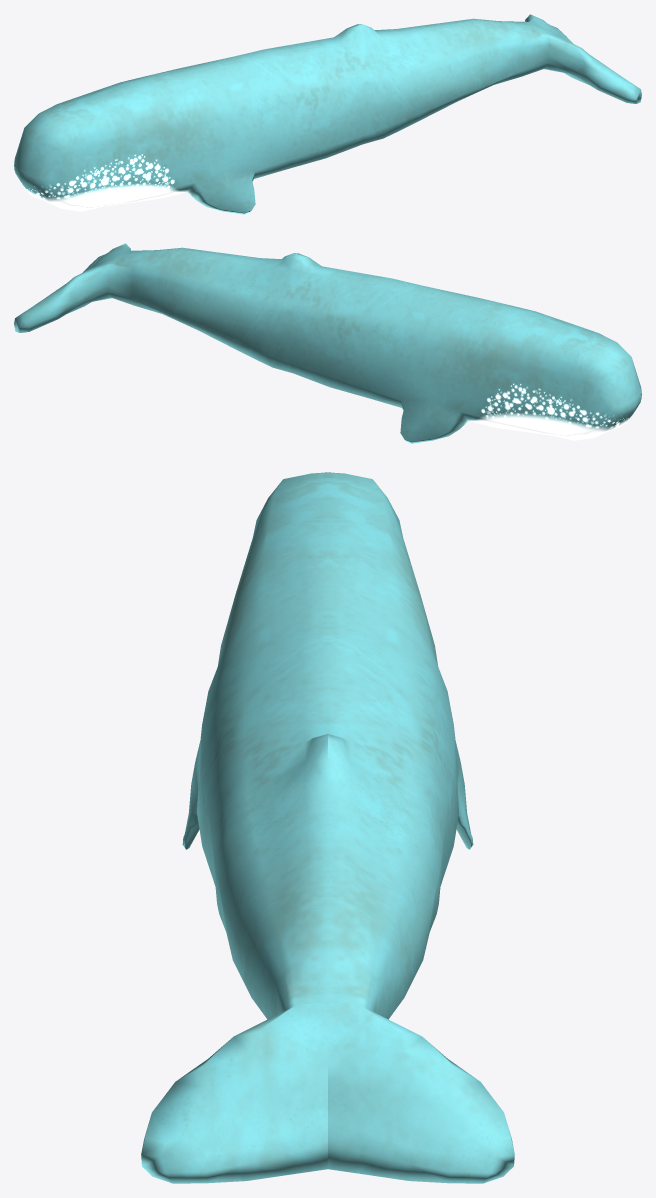
File: Moby.glb
The picture shows the model from 3 angles, top to bottom: view 1: azimuth 30°, elevation 25°; view 2: azimuth 150°, elevation 25°; view 3: azimuth 270°, elevation 25°; orthographic projection. The views are drawn at different scales.
Parts seen in each view (by area): view 1: Moby; view 2: Moby; view 3: Moby.
Boxes of the visible parts, box(x1,y1,x2,y2) form: Moby: box(14, 14, 641, 214); Moby: box(14, 243, 641, 443); Moby: box(141, 472, 514, 1183).
Size of the model in its own units: 22.21 by 4.68 by 6.18.
1 material, 1 textured.
